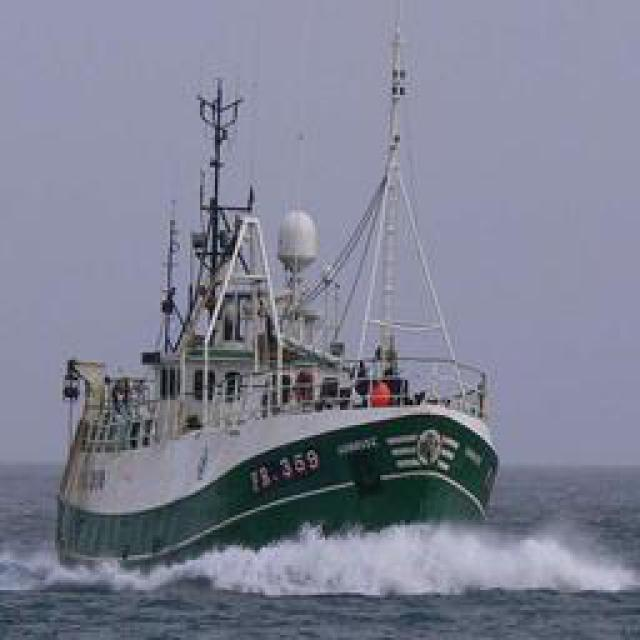Ship: (49, 29, 499, 552)
